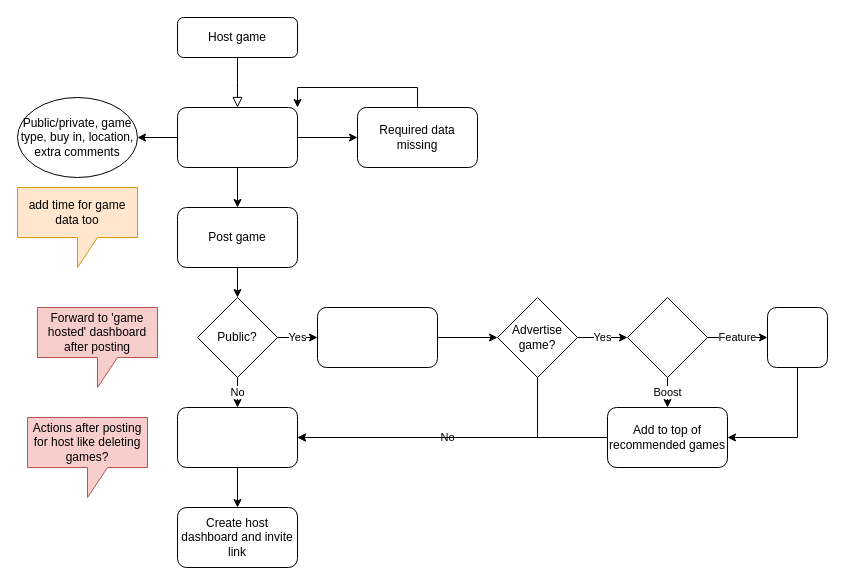
Some shapes in this 845 by 585 pixel diagram are drawn without their labels. The centre of each missing label's shape, as x and y in pixels:
Add to home page: pixel 797 337
Add to public directory: pixel 377 337
Feature or boost?: pixel 667 337
Input Game Data: pixel 237 137
Notify friends and show at top of find games: pixel 237 437
